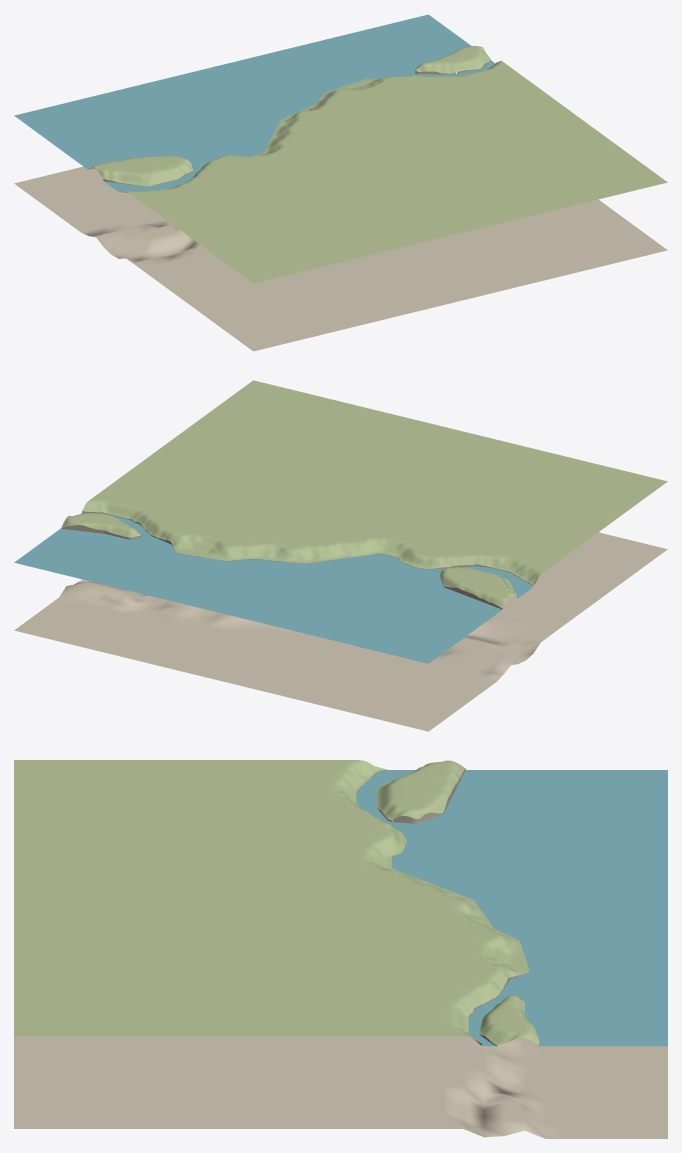
3 views of the same model, one above another, from view 1: azimuth 30°, elevation 25°; view 2: azimuth 150°, elevation 25°; view 3: azimuth 270°, elevation 25° (orthographic). The views are drawn at different scales.
Visible parts, largest first — view 1: s_3_0__grass, s_3_0__soil, s_3_0__water; view 2: s_3_0__grass, s_3_0__soil, s_3_0__water, s_3_0__shore_bank; view 3: s_3_0__grass, s_3_0__soil, s_3_0__water, s_3_0__shore_bank.
Boxes of the visible parts, x1,y1,x2,y2 form: s_3_0__grass: (91,46,667,283); s_3_0__soil: (14,166,667,351); s_3_0__water: (14,14,495,191); s_3_0__grass: (61,380,667,608); s_3_0__soil: (14,532,667,731); s_3_0__water: (14,513,531,663); s_3_0__shore_bank: (61,511,530,609); s_3_0__grass: (14,760,539,1045); s_3_0__soil: (14,997,667,1138); s_3_0__water: (356,770,667,1046); s_3_0__shore_bank: (356,768,539,1045).
Bounding box in the file's own units: 128 × 22.14 × 128.
